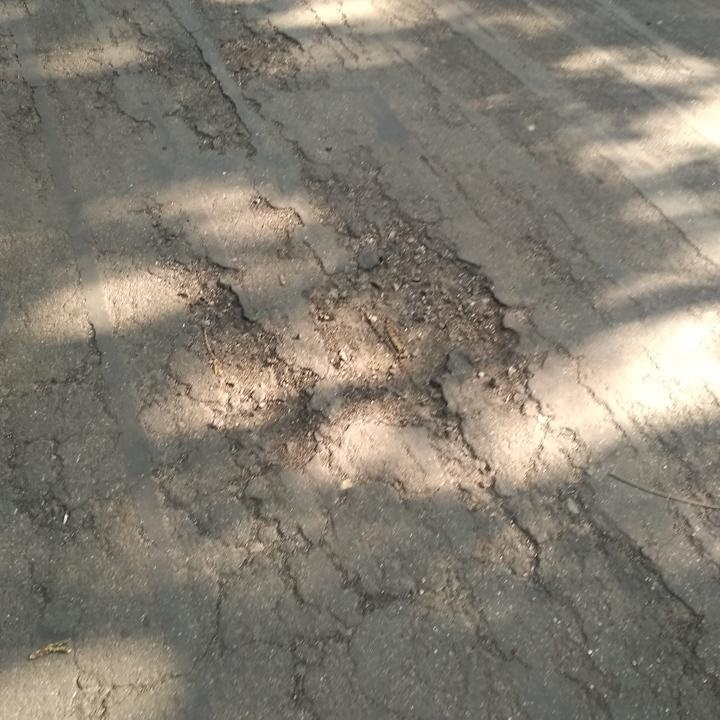pothole: (315, 229, 543, 437), (185, 275, 329, 468), (221, 17, 304, 95)
